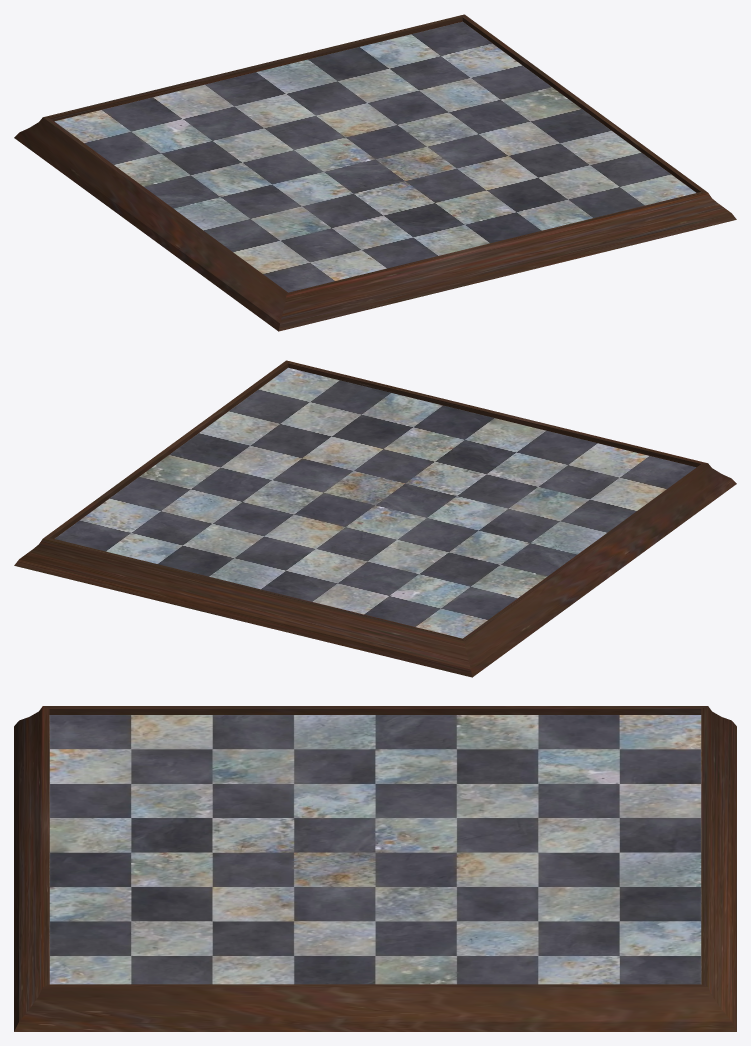
Rendered from chess-board.glb.
3 views of the same model, one above another, from view 1: azimuth 30°, elevation 25°; view 2: azimuth 150°, elevation 25°; view 3: azimuth 270°, elevation 25° (orthographic). The views are drawn at different scales.
Parts seen in each view (by area): view 1: Cube; view 2: Cube; view 3: Cube.
Boxes of the visible parts, <box> form: Cube: <box>14,14,736,331</box>; Cube: <box>14,360,736,677</box>; Cube: <box>14,706,736,1031</box>.
Size of the model in its own units: 8.88 by 0.4412 by 8.88.
Materials: 2 (2 with a texture image).
